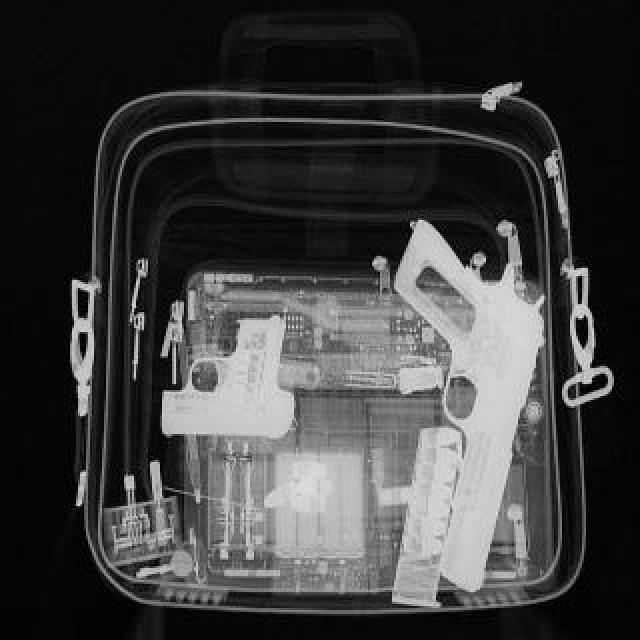gun: (386, 212, 548, 594), (156, 308, 302, 436)
